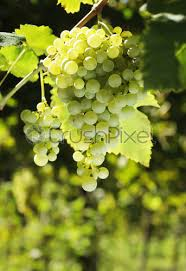grapes: (46, 22, 137, 194), (23, 102, 63, 168)
